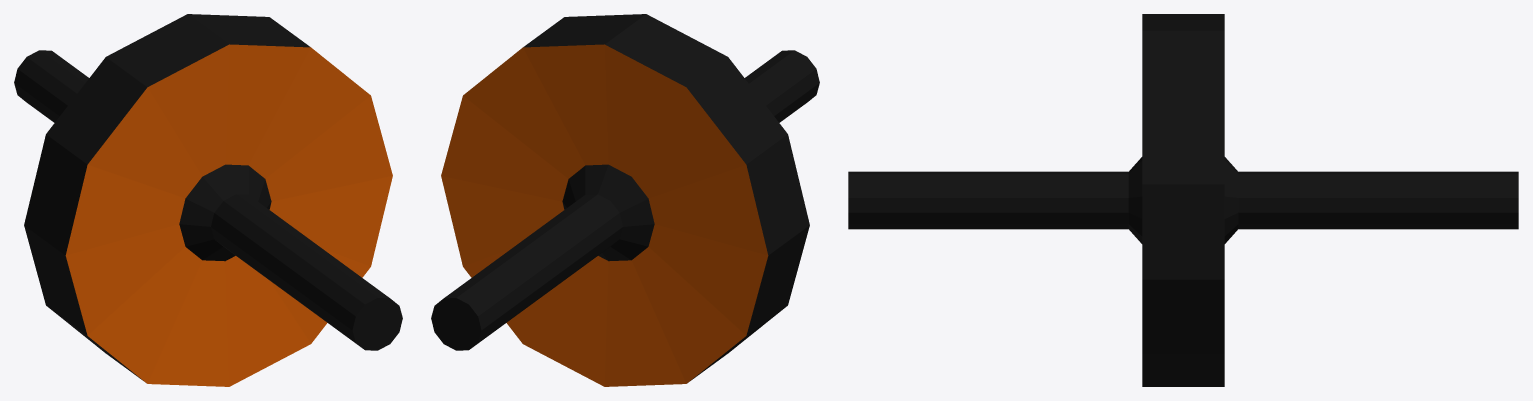
The model's file is AbWheel.003.fbx.
3 renders of one model, left to right at view 1: azimuth 30°, elevation 25°; view 2: azimuth 150°, elevation 25°; view 3: azimuth 270°, elevation 25°, orthographic.
Parts seen in each view (by area): view 1: AbWheel.003; view 2: AbWheel.003; view 3: AbWheel.003.
Boxes of the visible parts, <box> form: AbWheel.003: <box>14,14,402,386</box>; AbWheel.003: <box>431,14,819,386</box>; AbWheel.003: <box>848,14,1518,386</box>.
Bounding box in the file's own units: 24.22 × 24.22 × 43.36.
